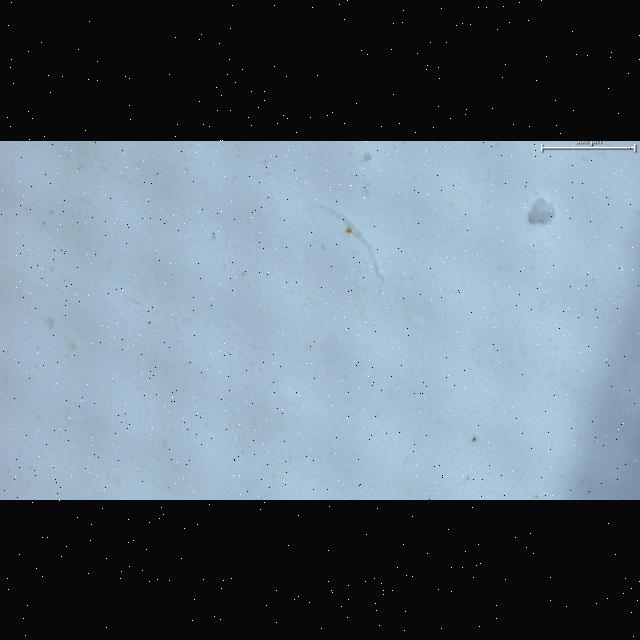Fibre: (315, 204, 385, 293)
Fragment: (529, 197, 555, 223)
